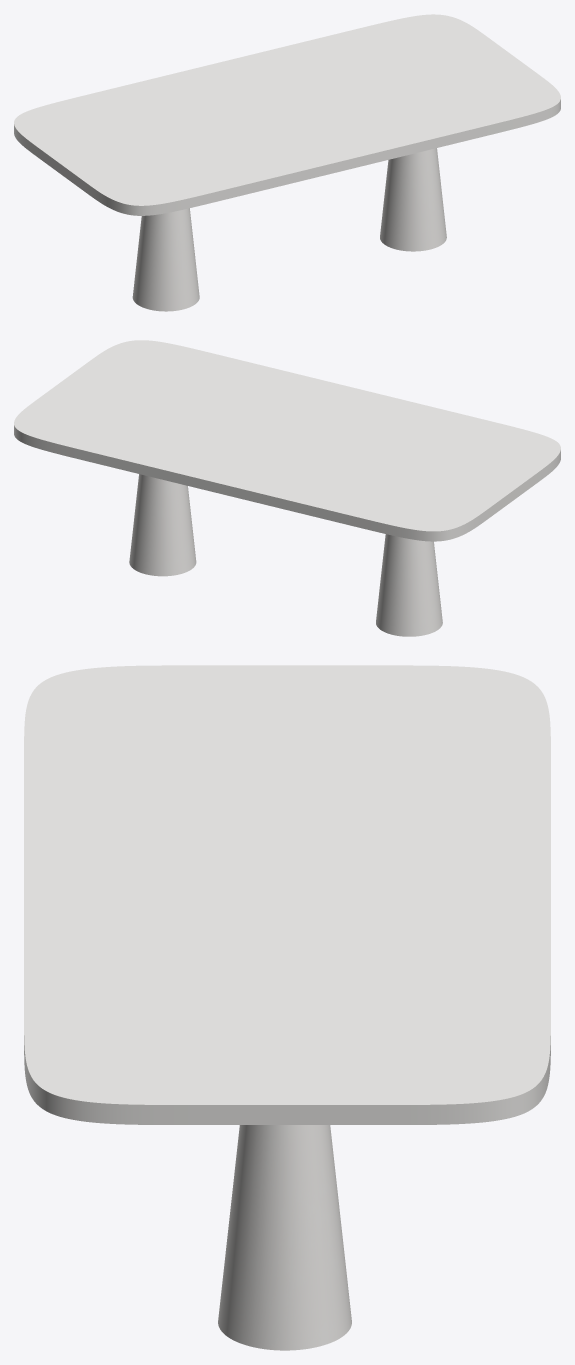
Rendered from purewhite_softrecta_standard_pebble.glb.
The picture shows the model from 3 angles, top to bottom: view 1: azimuth 30°, elevation 25°; view 2: azimuth 150°, elevation 25°; view 3: azimuth 270°, elevation 25°; orthographic projection. The views are drawn at different scales.
Visible parts, largest first — view 1: standard_softrecta, pebble; view 2: standard_softrecta, pebble; view 3: standard_softrecta, pebble.
Part boxes in pixels (box(x1,y1,x2,y2)): standard_softrecta: box(14, 14, 560, 215); pebble: box(132, 148, 446, 311); standard_softrecta: box(14, 340, 560, 541); pebble: box(129, 474, 442, 636); standard_softrecta: box(24, 665, 550, 1124); pebble: box(218, 1125, 351, 1350).
Size of the model in its own units: 7.5 by 2.5 by 3.8.
Materials: 1 (1 with a texture image).
